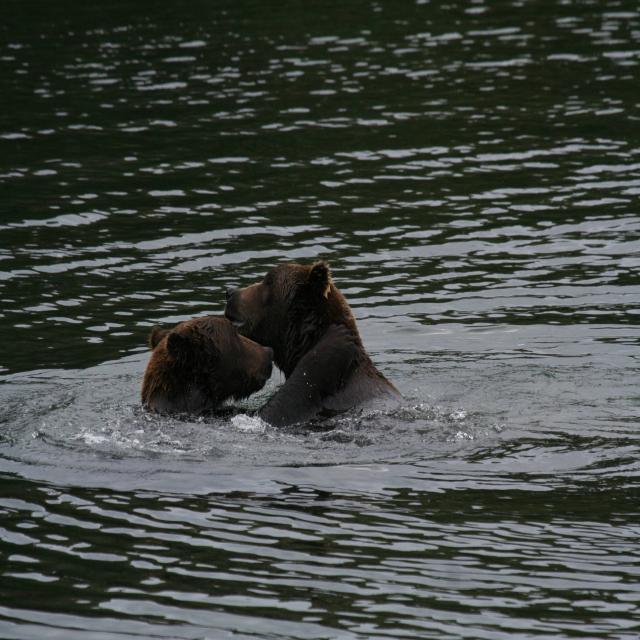bear face: (226, 267, 382, 400), (148, 315, 274, 400)
